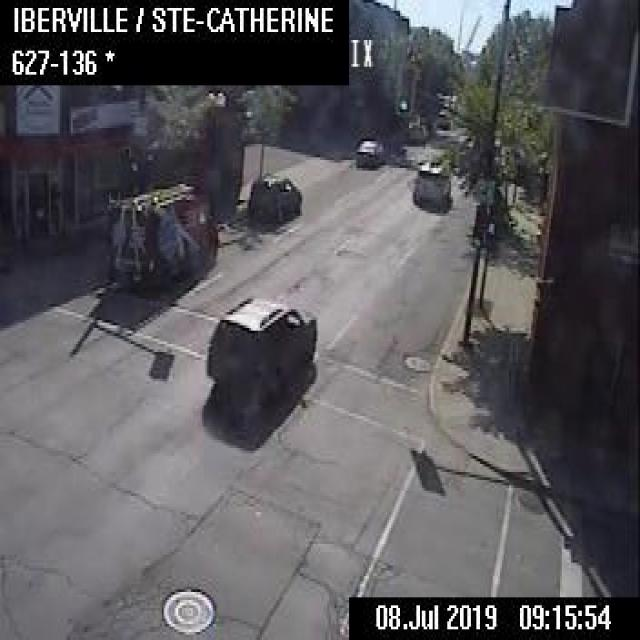vehicle: (108, 178, 216, 286), (206, 294, 316, 398), (247, 172, 300, 222), (412, 160, 451, 203), (354, 136, 388, 168)
